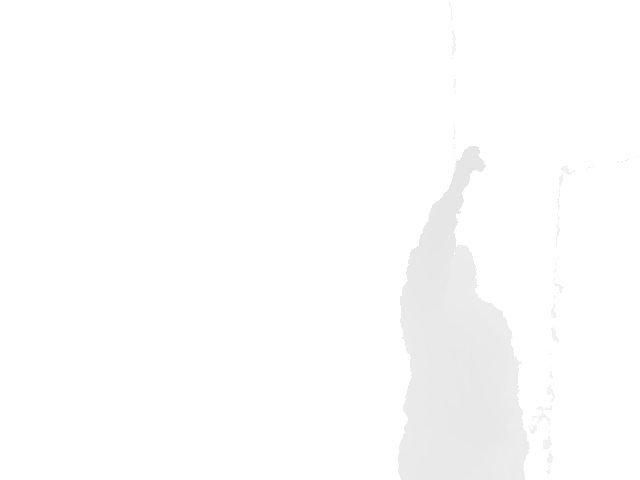hand: (449, 144, 487, 192)
head: (442, 242, 479, 292)
person: (396, 144, 531, 480)
